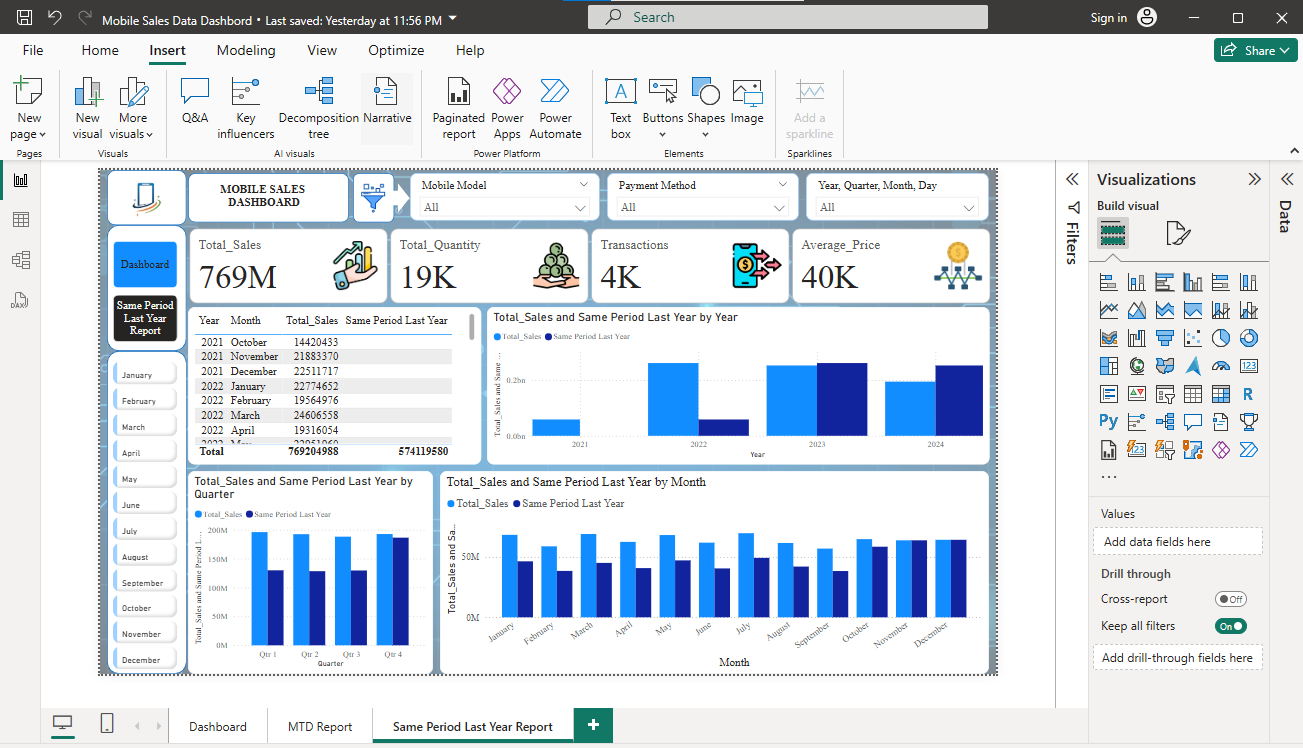

The dashboard page shown, as its layout file describes it:
{"tool":"powerbi","page":{"name":"Same Period Last Year Report","canvas":[1280,720],"ordinal":2},"visuals":[{"type":"shape","box":[9.9,0,113.6,79],"z":0},{"type":"shape","box":[125.3,4.4,230,70.8],"z":1000},{"type":"image","box":[19.2,8.8,92.9,63.4],"z":2000},{"type":"slicer","fields":{"Values":["Sales_Data.Mobile Model"]},"box":[442.4,4.4,271.3,67.8],"z":3000},{"type":"slicer","fields":{"Values":["Sales_Data.Payment Method"]},"box":[724.1,4.4,274.3,67.8],"z":4000},{"type":"slicer","fields":{"Values":["Custom_Calendar.Date.Variation.Date Hierarchy.Year","Custom_Calendar.Date.Variation.Date Hierarchy.Quarter","Custom_Calendar.Date.Variation.Date Hierarchy.Month","Custom_Calendar.Date.Variation.Date Hierarchy.Day"]},"box":[1008.7,4.3,260.9,68.1],"z":5000},{"type":"shape","box":[361.3,4.4,59,70.8],"z":6000},{"type":"image","box":[361.3,14.7,57.5,51.6],"z":7000},{"type":"shape","box":[408.5,19.2,33.9,42.8],"z":8000},{"type":"textbox","box":[135.7,14.7,197.6,54.6],"z":9000},{"type":"shape","box":[10.3,78.2,113.5,179.9],"z":10000},{"type":"cardVisual","fields":{"Data":["Sales_Data.Total_Sales","Sales_Data.Total_Quantity","Sales_Data.Transactions","Sales_Data.Average_Price"]},"box":[123.2,78.3,1156.5,117.4],"z":11000},{"type":"shape","box":[10,258.8,113.8,461.2],"z":12000},{"type":"tableEx","fields":{"Values":["Custom_Calendar.Date.Variation.Date Hierarchy.Year","Custom_Calendar.Date.Variation.Date Hierarchy.Month","Sales_Data.Total_Sales","Sales_Data.Same Period Last Year"]},"box":[125,196.2,418.8,225],"z":13000},{"type":"advancedSlicerVisual","fields":{"Values":["Custom_Calendar.Date.Variation.Date Hierarchy.Month"]},"box":[19.2,268.4,92.9,451.2],"z":14000},{"type":"clusteredColumnChart","fields":{"Category":["Custom_Calendar.Date.Variation.Date Hierarchy.Year","Custom_Calendar.Date.Variation.Date Hierarchy.Quarter","Custom_Calendar.Date.Variation.Date Hierarchy.Month","Custom_Calendar.Date.Variation.Date Hierarchy.Day"],"Y":["Sales_Data.Total_Sales","Sales_Data.Same Period Last Year"]},"box":[552.5,196.2,717.5,225],"z":15000},{"type":"clusteredColumnChart","fields":{"Category":["Custom_Calendar.Date.Variation.Date Hierarchy.Quarter"],"Y":["Sales_Data.Total_Sales","Sales_Data.Same Period Last Year"]},"box":[125.7,430,350,290],"z":16000},{"type":"clusteredColumnChart","fields":{"Category":["Custom_Calendar.Date.Variation.Date Hierarchy.Month"],"Y":["Sales_Data.Total_Sales","Sales_Data.Same Period Last Year"]},"box":[485.7,430,784.3,290],"z":17000},{"type":"pageNavigator","box":[18.8,101.2,92.5,145],"z":18000}]}

Visuals, with their boxes on the page's 1280x720 design canvas (x1, y1, x2, y2). These are canvas units, not pixel positions in the 1303x748 screenshot, which may show the page scaled, cropped or inside an application window:
shape: bbox=[10, 0, 124, 79]
shape: bbox=[125, 4, 355, 75]
image: bbox=[19, 9, 112, 72]
slicer - Sales_Data.Mobile Model: bbox=[442, 4, 714, 72]
slicer - Sales_Data.Payment Method: bbox=[724, 4, 998, 72]
slicer - Custom_Calendar.Date.Variation.Date Hierarchy.Year x Custom_Calendar.Date.Variation.Date Hierarchy.Quarter: bbox=[1009, 4, 1270, 72]
shape: bbox=[361, 4, 420, 75]
image: bbox=[361, 15, 419, 66]
shape: bbox=[408, 19, 442, 62]
textbox: bbox=[136, 15, 333, 69]
shape: bbox=[10, 78, 124, 258]
cardVisual - Sales_Data.Total_Sales x Sales_Data.Total_Quantity: bbox=[123, 78, 1280, 196]
shape: bbox=[10, 259, 124, 720]
tableEx - Custom_Calendar.Date.Variation.Date Hierarchy.Year x Custom_Calendar.Date.Variation.Date Hierarchy.Month: bbox=[125, 196, 544, 421]
advancedSlicerVisual - Custom_Calendar.Date.Variation.Date Hierarchy.Month: bbox=[19, 268, 112, 720]
clusteredColumnChart - Custom_Calendar.Date.Variation.Date Hierarchy.Year x Custom_Calendar.Date.Variation.Date Hierarchy.Quarter: bbox=[552, 196, 1270, 421]
clusteredColumnChart - Custom_Calendar.Date.Variation.Date Hierarchy.Quarter x Sales_Data.Total_Sales: bbox=[126, 430, 476, 720]
clusteredColumnChart - Custom_Calendar.Date.Variation.Date Hierarchy.Month x Sales_Data.Total_Sales: bbox=[486, 430, 1270, 720]
pageNavigator: bbox=[19, 101, 111, 246]
